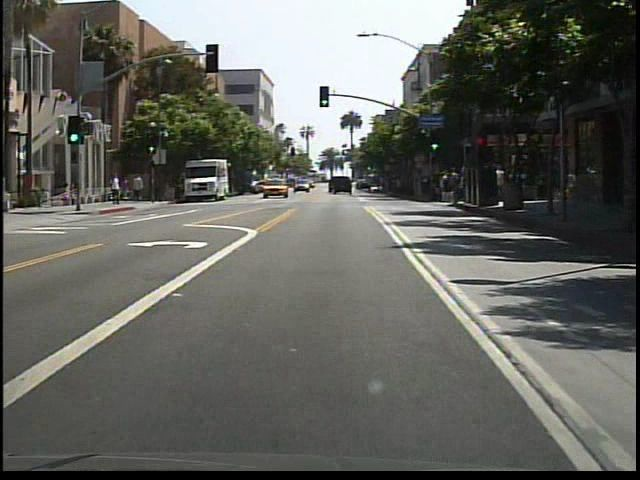person: (133, 172, 147, 203), (111, 173, 123, 208), (58, 184, 74, 209), (121, 176, 134, 203)
